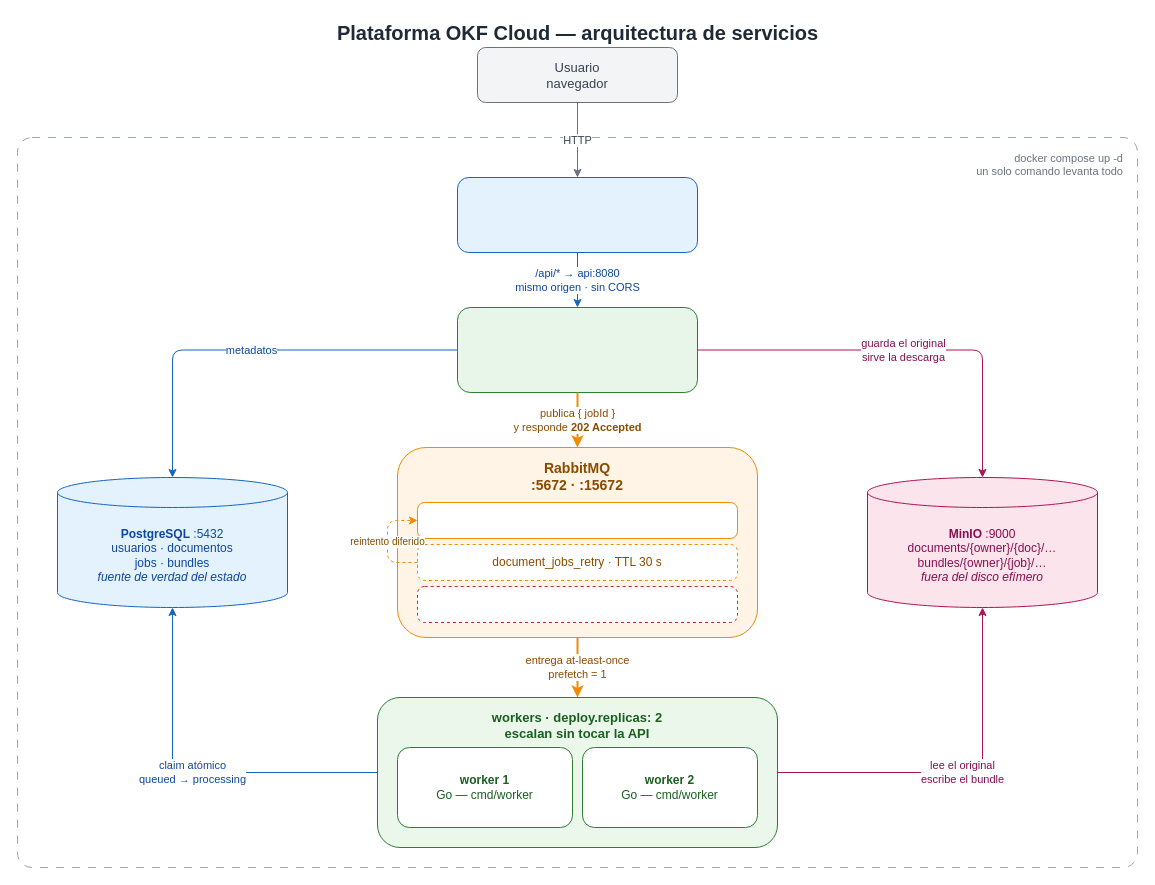
The diagram is 1155 pixels wide and 885 high, and some of its shapes have lost their labels. Each missing label, with the centre of its shape:
api :8080 Go — cmd/api sin estado · JWT · owner_id: [577,349]
document_jobs: [577,520]
document_jobs_dlq · tras 3 intentos: [577,604]
frontend :5173 React + Vite (build estático) nginx sirve y hace de proxy: [577,214]
